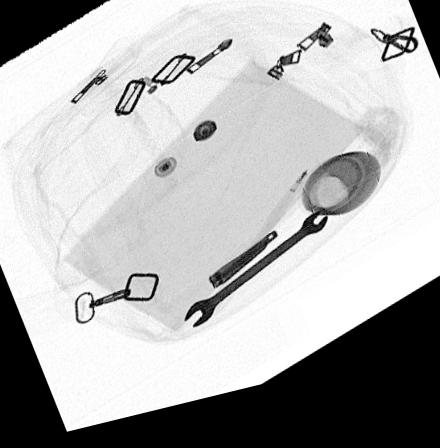Wrench: (183, 225, 328, 339)
